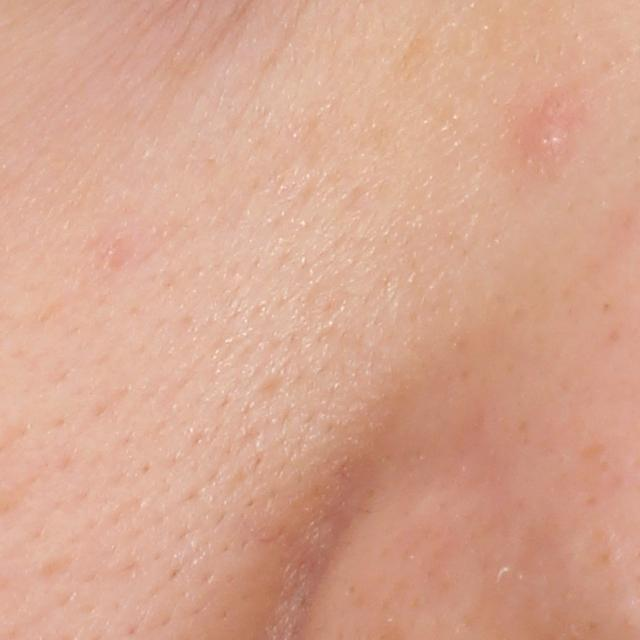papule: (526, 113, 571, 167)
